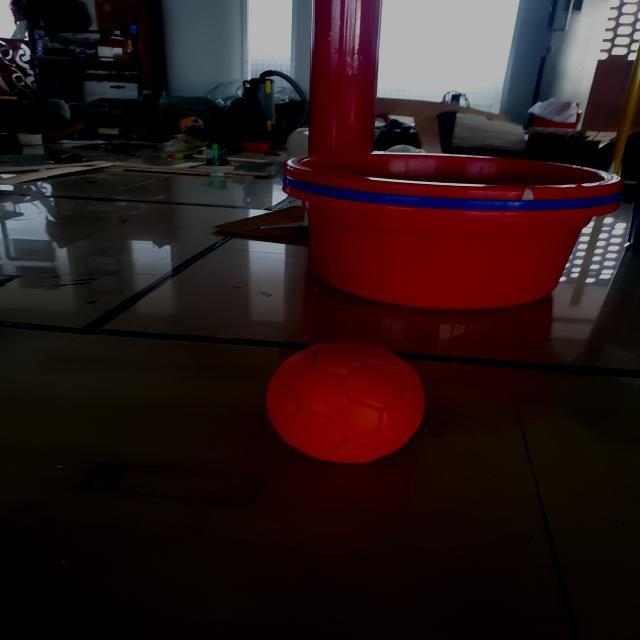bola: (261, 337, 431, 468)
